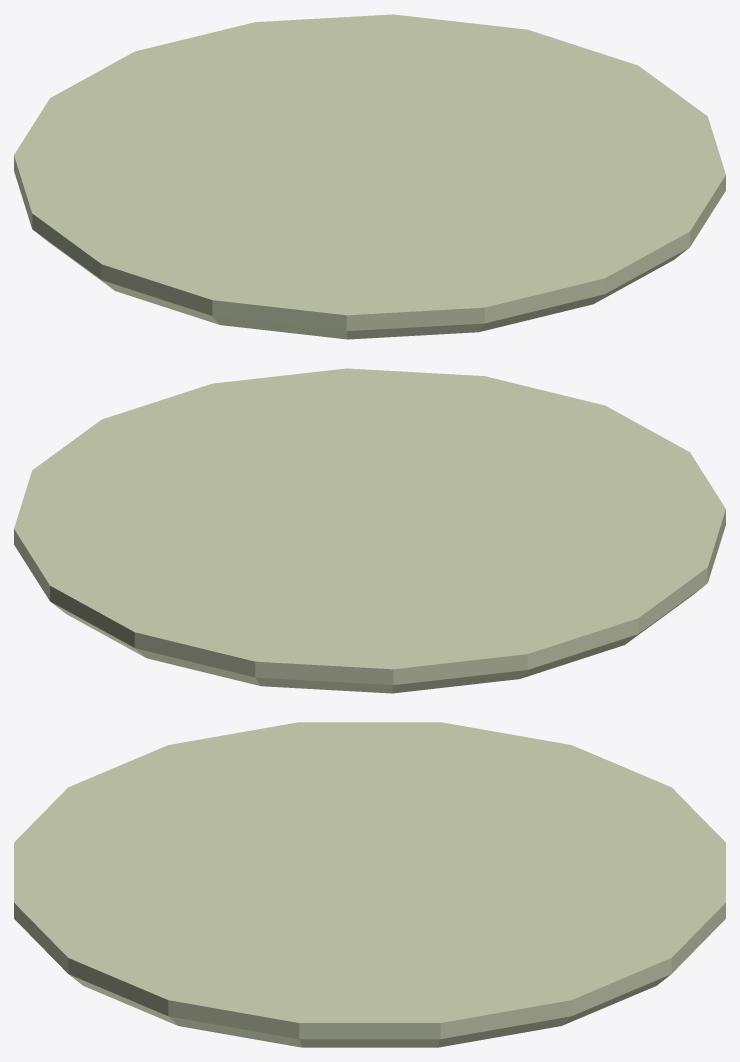
Rendered from Eridani_Mount_1_Collider.obj.
The picture shows the model from 3 angles, top to bottom: view 1: azimuth 30°, elevation 25°; view 2: azimuth 150°, elevation 25°; view 3: azimuth 270°, elevation 25°; orthographic projection.
Parts seen in each view (by area): view 1: Eridani_Mount_1_Collider; view 2: Eridani_Mount_1_Collider; view 3: Eridani_Mount_1_Collider.
Boxes of the visible parts, <box> form: Eridani_Mount_1_Collider: <box>14,14,725,339</box>; Eridani_Mount_1_Collider: <box>14,368,725,693</box>; Eridani_Mount_1_Collider: <box>14,722,725,1047</box>.
Bounding box in the file's own units: 2.5 × 0.1251 × 2.5.
